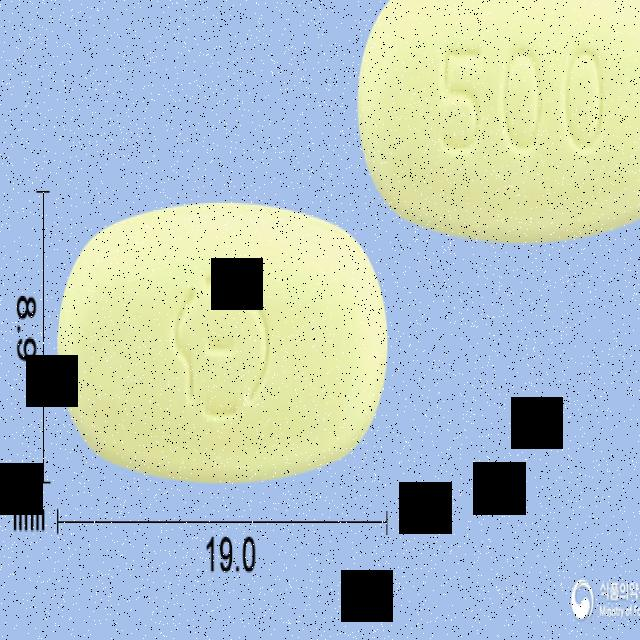Clarione: (52, 190, 392, 492), (352, 0, 640, 256)
